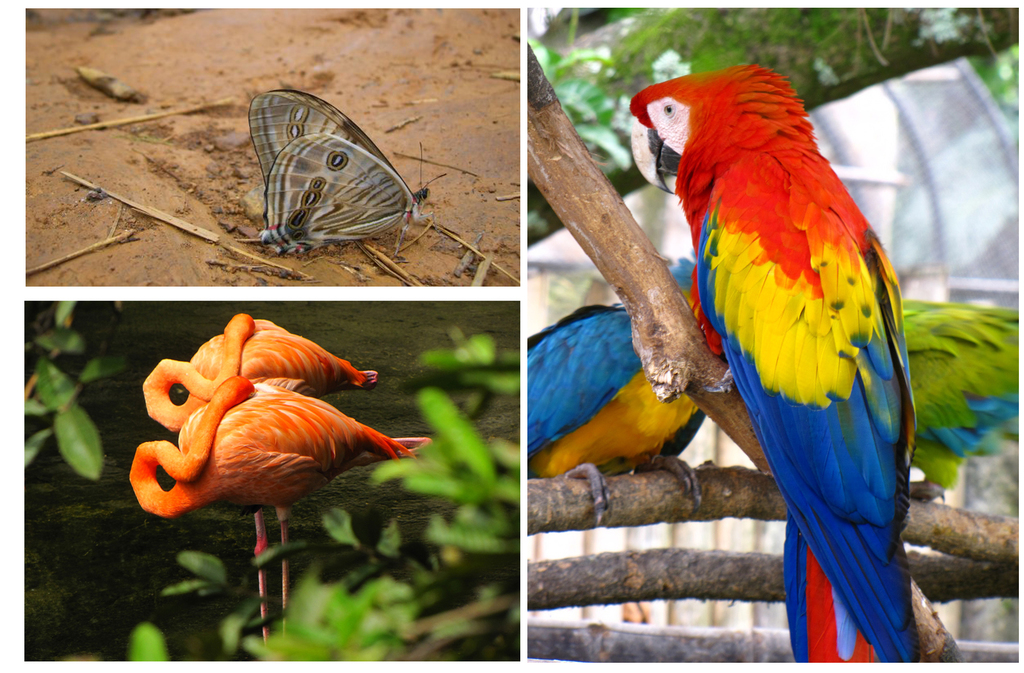Butterfly: (215, 60, 435, 270)
